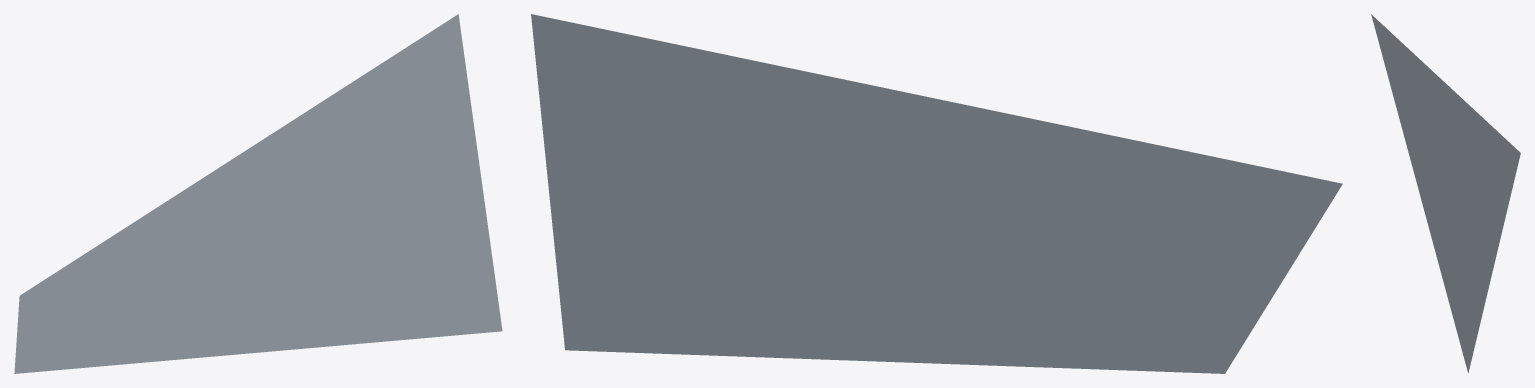
The model's file is posterior-talofibular-ligament-l.glb.
3 renders of one model, left to right at view 1: azimuth 30°, elevation 25°; view 2: azimuth 150°, elevation 25°; view 3: azimuth 270°, elevation 25°, orthographic. The views are drawn at different scales.
Parts seen in each view (by area): view 1: Posterior talofibular ligament.l; view 2: Posterior talofibular ligament.l; view 3: Posterior talofibular ligament.l.
Boxes of the visible parts, x1,y1,x2,y2 form: Posterior talofibular ligament.l: [14, 14, 502, 373]; Posterior talofibular ligament.l: [531, 14, 1342, 373]; Posterior talofibular ligament.l: [1371, 14, 1520, 373].
Size of the model in its own units: 0.0177 by 0.00903 by 0.00563.
